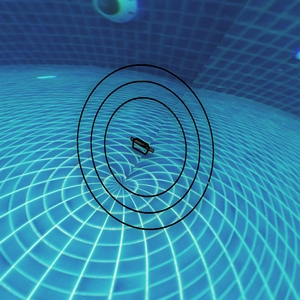submarine: (130, 134, 152, 154)
